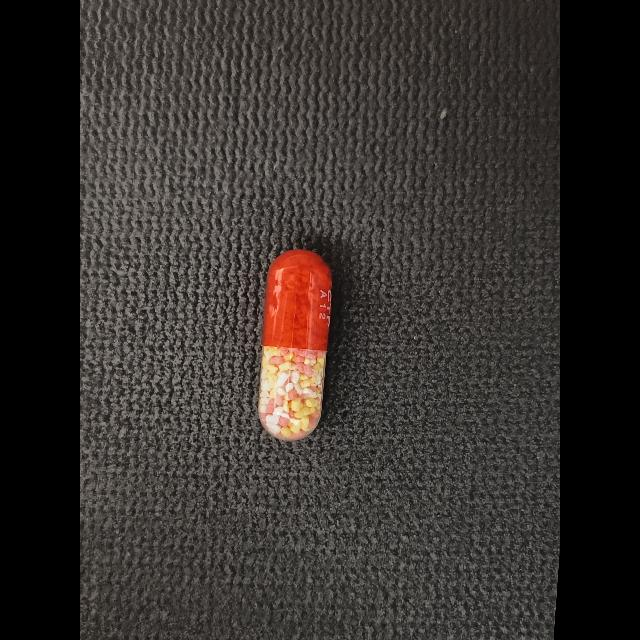Intact Capsule: (258, 250, 333, 441)
